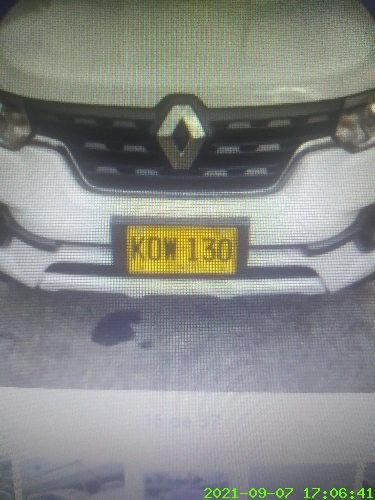number_plate: (126, 223, 239, 275)
